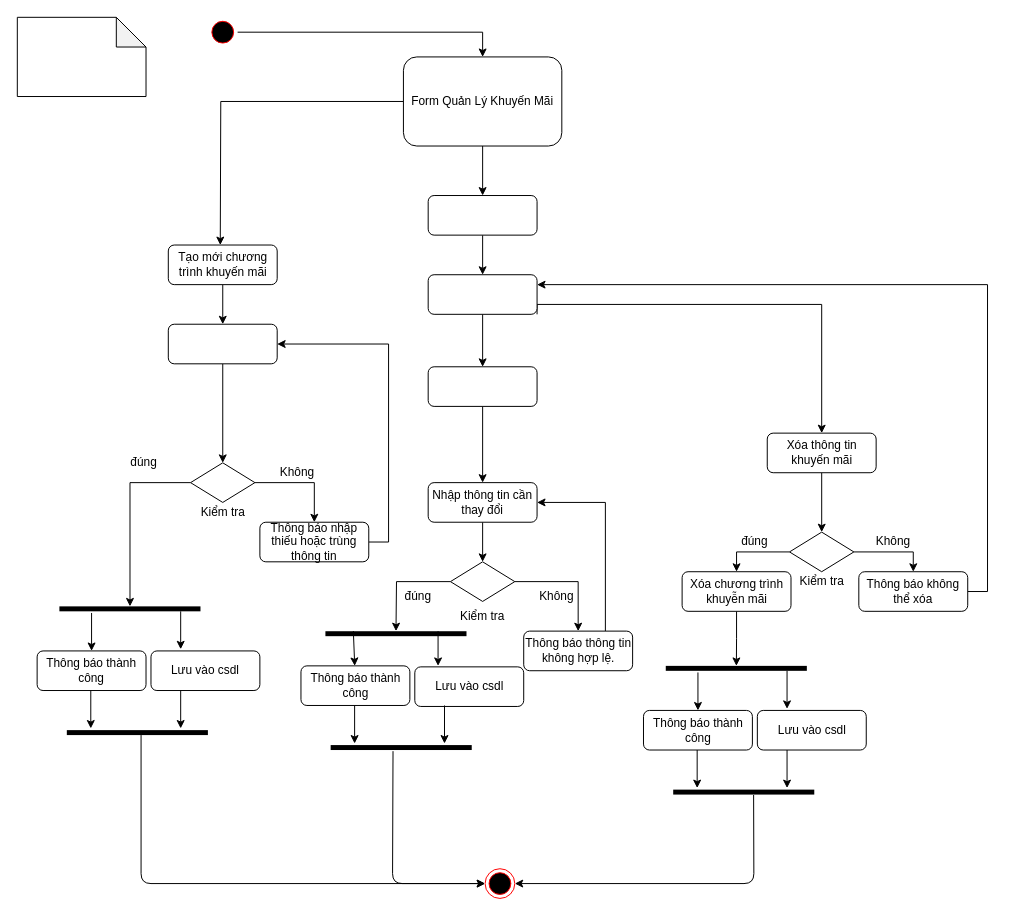
Image size: 1013x916. Some labels were removed from this diagram. Here are the shapes that lost their labels. From the top down, the box of each, then its label:
(16, 16, 146, 97): Quản lý khuyến mãi
(427, 195, 537, 235): Chọn một chương trình khuyễn mãi
(427, 274, 537, 314): Form thông tin khuyễn mãi
(167, 323, 277, 364): Nhập thông tin khuyễn mãi cần tạo
(427, 366, 537, 406): Thay đổi thông tin khuyễn mãi
